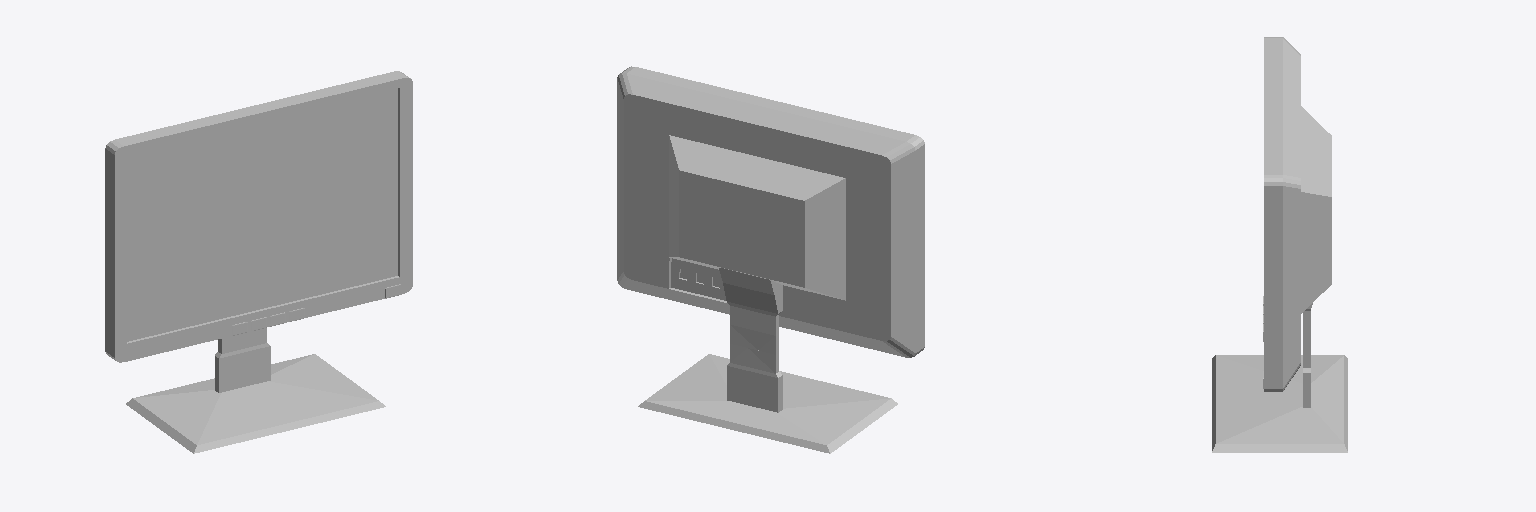
Rendered from моник.obj.
3 views of the same model, side by side, from view 1: azimuth 30°, elevation 25°; view 2: azimuth 150°, elevation 25°; view 3: azimuth 270°, elevation 25° (orthographic).
Visible parts, largest first — view 1: Cube, Cube.002_Cube.003; view 2: Cube; view 3: Cube.
Boxes of the visible parts, box(x1,y1,x2,y2) form: Cube: box(105, 71, 412, 453); Cube.002_Cube.003: box(232, 284, 400, 335); Cube: box(617, 66, 924, 453); Cube: box(1212, 37, 1347, 452).
Size of the model in its own units: 3.02 by 2.89 by 1.19.